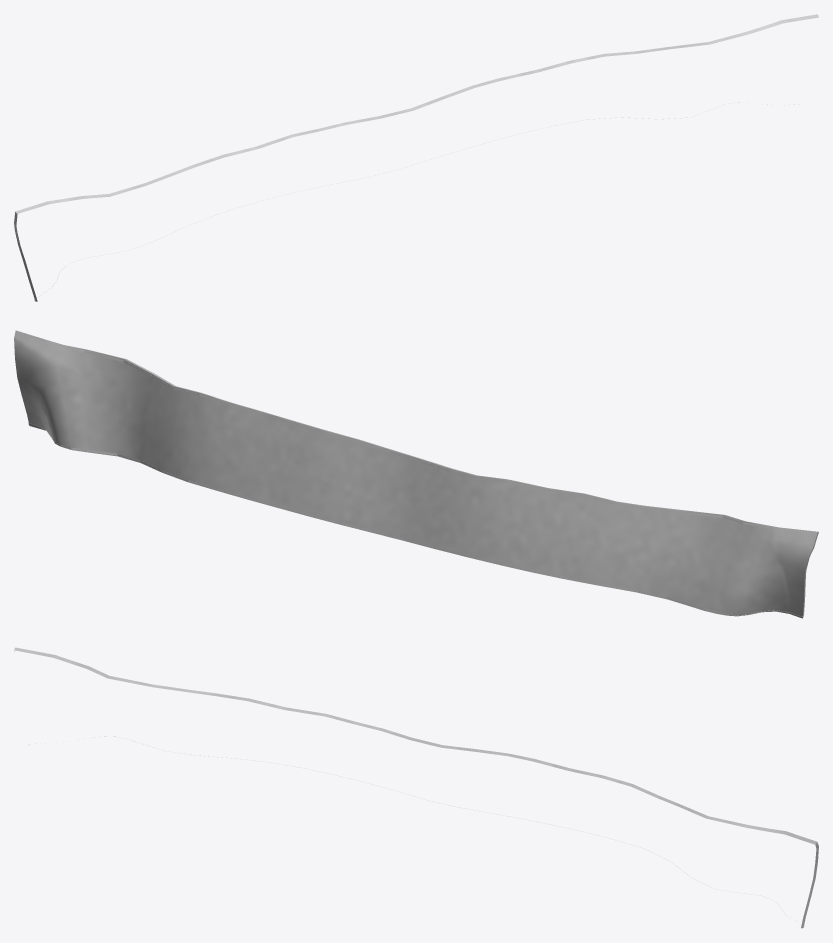
The model's file is COP_Spine_V1.glb.
3 renders of one model, top to bottom at view 1: azimuth 30°, elevation 25°; view 2: azimuth 150°, elevation 25°; view 3: azimuth 330°, elevation 25°, orthographic.
Visible parts, largest first — view 1: COP_Spine_V11; view 2: COP_Spine_V11, Rope1; view 3: COP_Spine_V11.
Boxes of the visible parts, x1=… form: COP_Spine_V11: x1=14, y1=14, x2=818, y2=301; COP_Spine_V11: x1=14, y1=330, x2=818, y2=618; Rope1: x1=15, y1=331, x2=818, y2=617; COP_Spine_V11: x1=14, y1=647, x2=818, y2=928.
Size of the model in its own units: 0.7622 by 0.0878 by 0.0576.
2 materials, 2 textured.
